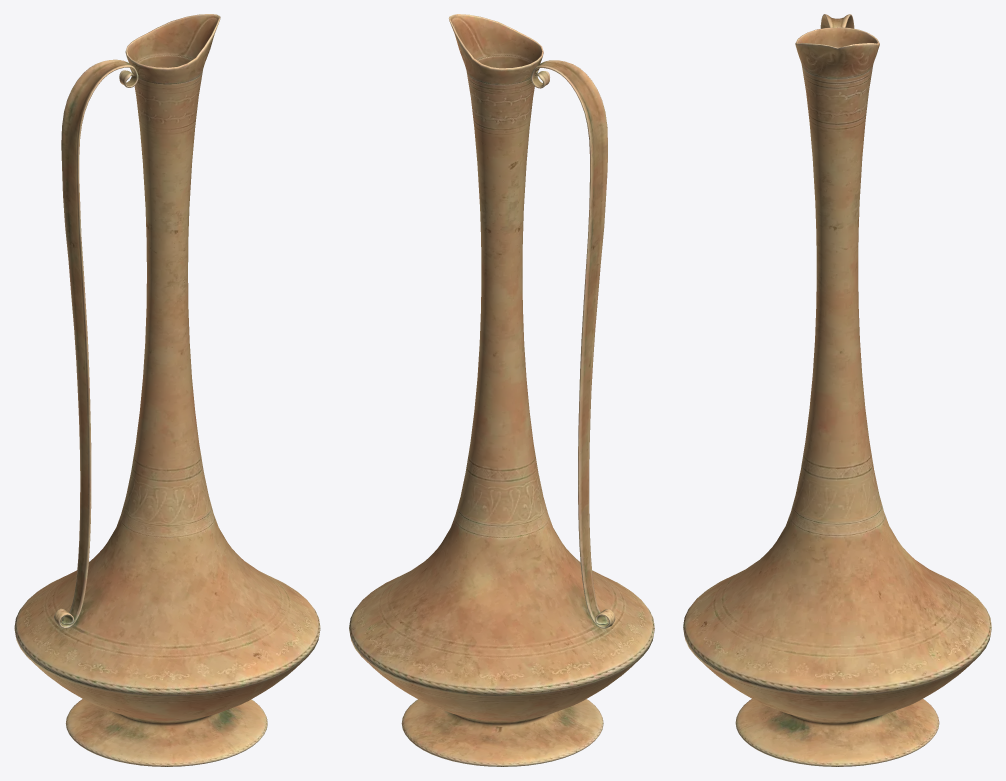
Rendered from brass_vase_02.glb.
3 views of the same model, side by side, from view 1: azimuth 30°, elevation 25°; view 2: azimuth 150°, elevation 25°; view 3: azimuth 270°, elevation 25° (orthographic).
Visible parts, largest first — view 1: brass_vase_02; view 2: brass_vase_02; view 3: brass_vase_02.
Boxes of the visible parts, box(x1,y1,x2,y2) form: brass_vase_02: box(14, 14, 320, 766); brass_vase_02: box(349, 14, 654, 766); brass_vase_02: box(683, 14, 991, 766).
Bounding box in the file's own units: 0.2102 × 0.5286 × 0.2102.
Materials: 1 (1 with a texture image).
